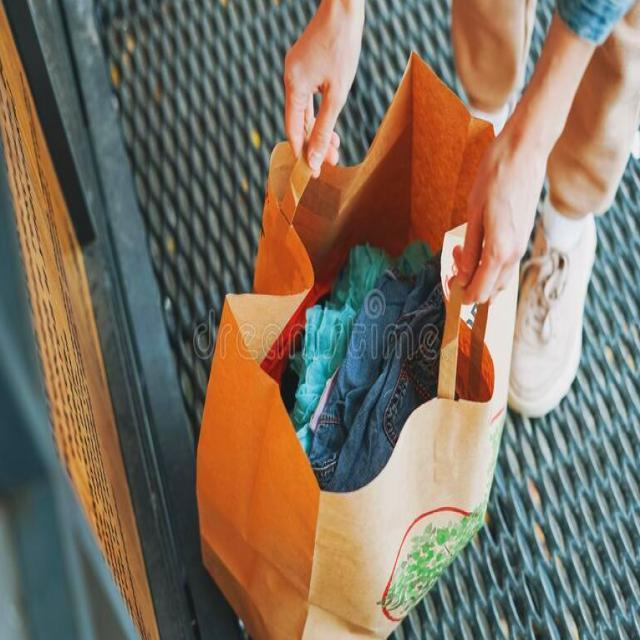clothes: (310, 256, 436, 454)
